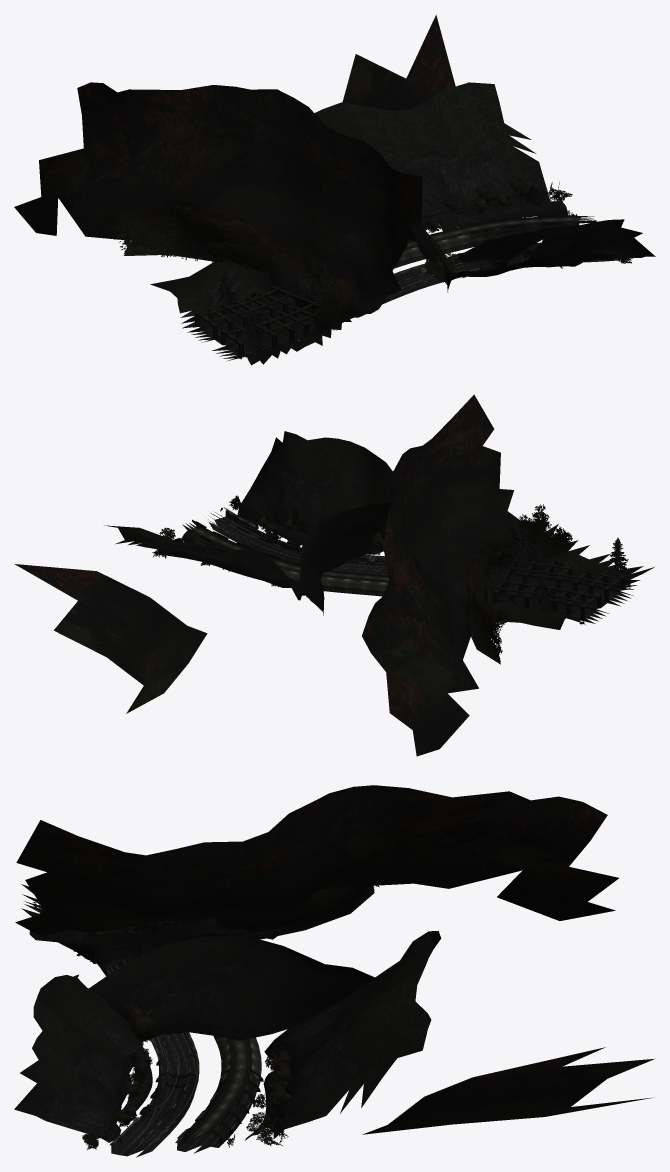
File: cell_5_-18.gltf
3 renders of one model, top to bottom at view 1: azimuth 30°, elevation 25°; view 2: azimuth 150°, elevation 25°; view 3: azimuth 270°, elevation 25°, orthographic. The views are drawn at different scales.
Parts seen in each view (by area): view 1: cell_5_-18; view 2: cell_5_-18; view 3: cell_5_-18.
Boxes of the visible parts, x1,y1,x2,y2 form: cell_5_-18: (14, 15, 655, 365); cell_5_-18: (14, 394, 654, 756); cell_5_-18: (14, 785, 655, 1157).
Bounding box in the file's own units: 272 × 118 × 289.
34 materials, 34 textured.
